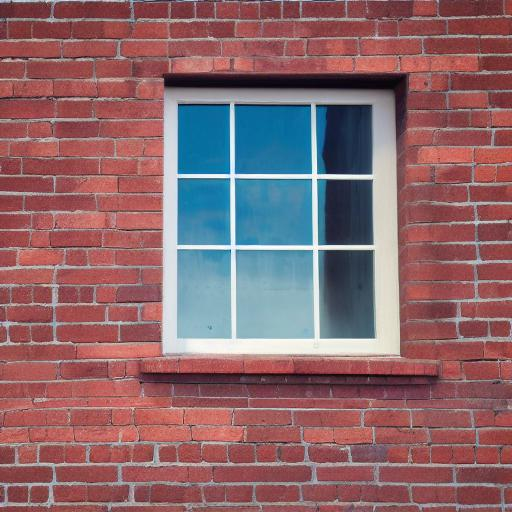Window: (137, 71, 442, 378)
